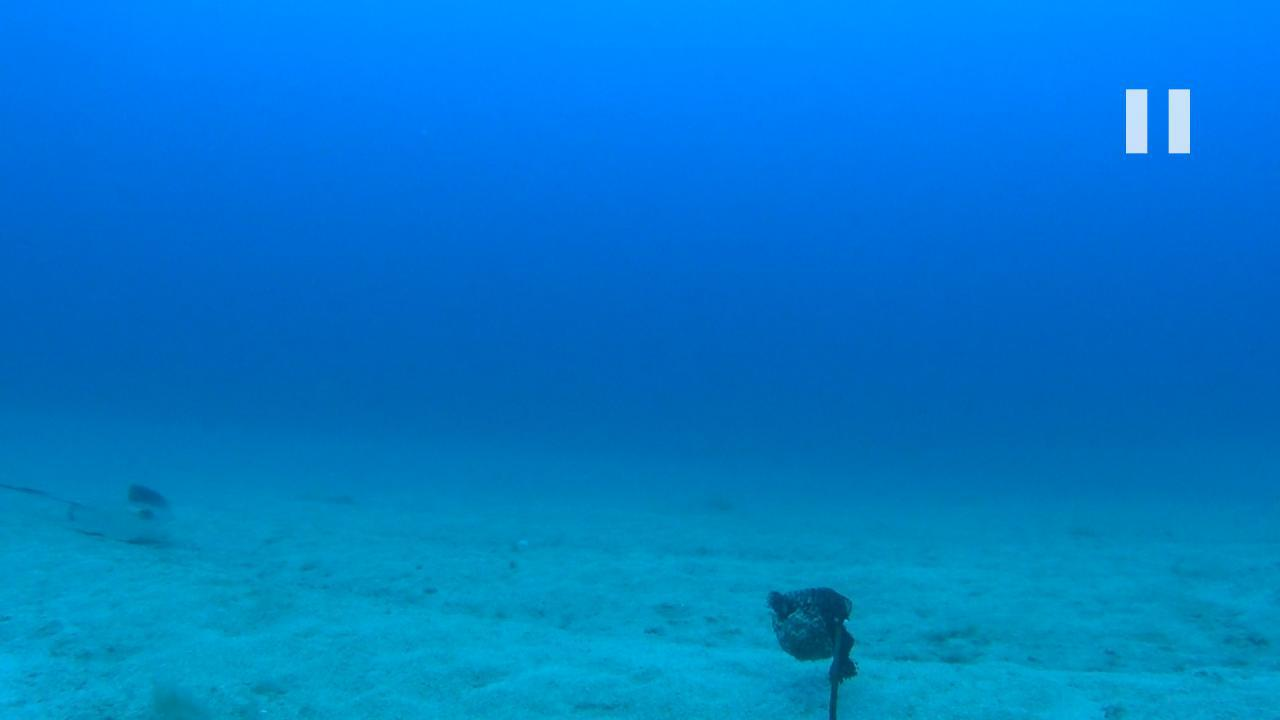dasyatis: (0, 479, 184, 545)
